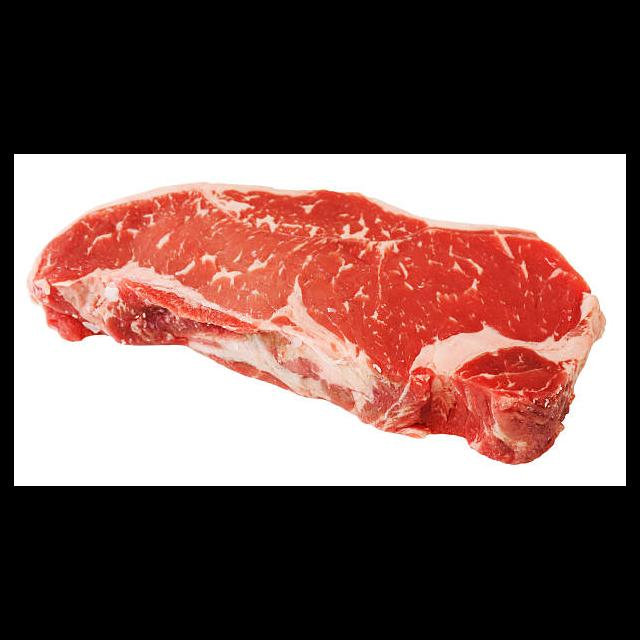beef: (27, 184, 608, 466)
